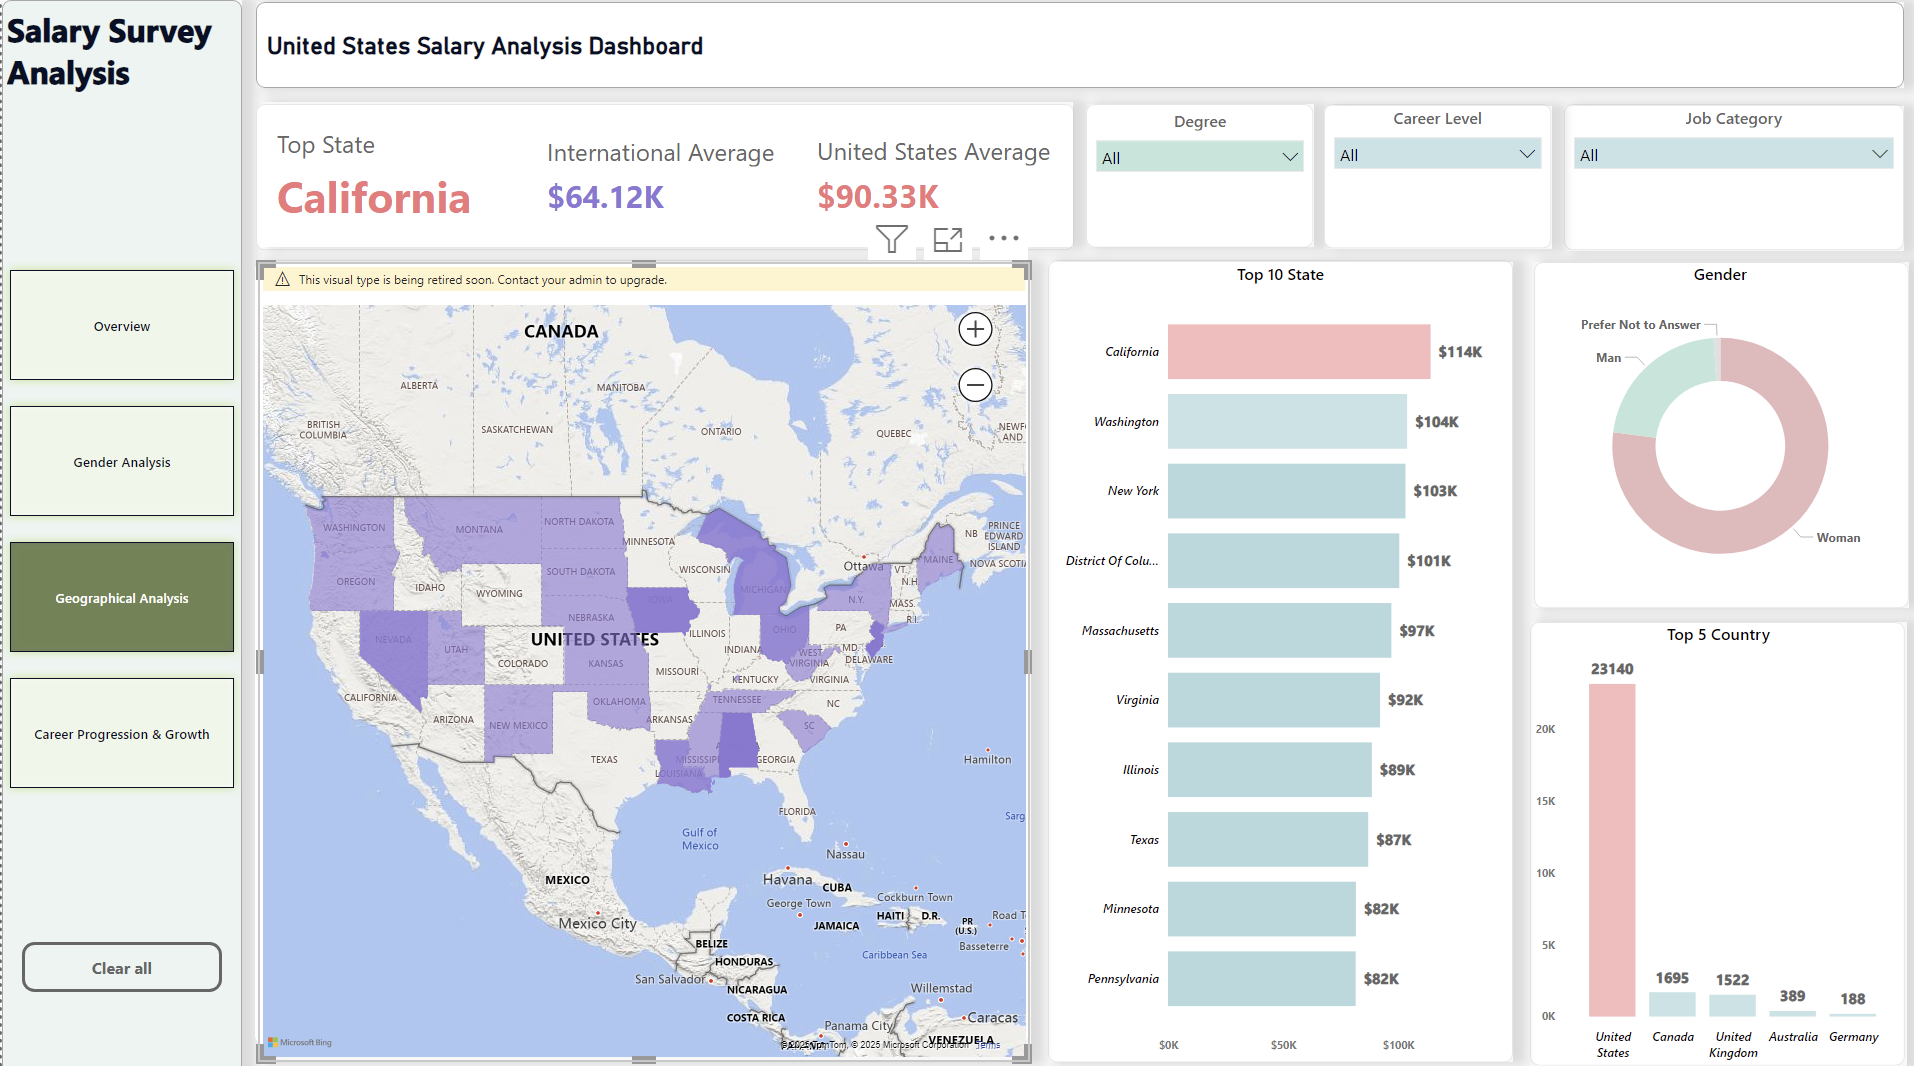

What the dashboard file says about the page in this screenshot:
{"tool":"powerbi","page":{"name":"Geographical Analysis","canvas":[1920,1080],"ordinal":2},"visuals":[{"type":"shape","box":[0,0,240,1080],"z":0},{"type":"shape","box":[1531.8,262,374.8,346.1],"z":1000},{"type":"shape","box":[1528,621.5,374.8,443.7],"z":2000},{"type":"shape","box":[253.6,103.6,818.2,146.4],"z":3000},{"type":"shape","box":[252.5,260,775,785],"z":4000},{"type":"shape","box":[254,2,1648,86],"z":5000},{"type":"textbox","box":[260,25,457.5,62.5],"z":6000},{"type":"cardVisual","fields":{"Data":["project_cleaned_v2 0.Top State","project_cleaned_v2 0.International Average","project_cleaned_v2 0.United States Average"]},"box":[257.5,102.5,812.5,145],"z":7000},{"type":"filledMap","title":"Gender Wise Average Salary","fields":{"Category":["project_cleaned_v2 0.state"]},"box":[255,262.5,772.5,800],"z":8000},{"type":"shape","box":[1045,260,465,802.5],"z":9000},{"type":"clusteredBarChart","title":"Top 10 State","fields":{"Y":["Avg(project_cleaned_v2 0.annual_salary_usd)"],"Category":["project_cleaned_v2 0.state"]},"box":[1045,262.5,465,800],"z":10000},{"type":"shape","box":[1084.5,103.6,227.3,143.6],"z":11000},{"type":"slicer","title":"Degree","fields":{"Values":["project_cleaned_v2 0.degree"]},"box":[1084.5,104.5,228.2,142.7],"z":12000},{"type":"shape","box":[1562.7,103.6,340,146.4],"z":13000},{"type":"shape","box":[1322.7,103.6,227.3,144.5],"z":14000},{"type":"slicer","title":"Job Category","fields":{"Values":["project_cleaned_v2 0.job_category"]},"box":[1562.7,105.5,340,144.5],"z":15000},{"type":"slicer","title":"Career Level","fields":{"Values":["project_cleaned_v2 0.career_level"]},"box":[1322.7,105.5,227.3,142.7],"z":16000},{"type":"clusteredColumnChart","title":"Top 5 Country","fields":{"Category":["project_cleaned_v2 0.country"],"Y":["CountNonNull(project_cleaned_v2 0.annual_salary_usd)"]},"box":[1528,621.5,376.7,445.6],"z":17000},{"type":"donutChart","title":"Gender","fields":{"Y":["CountNonNull(project_cleaned_v2 0.annual_salary_usd)"],"Category":["project_cleaned_v2 0.gender"]},"box":[1529.9,262,376.7,346.1],"z":18000},{"type":"pageNavigator","box":[0,262.5,240,537.5],"z":19000},{"type":"textbox","box":[0,2.5,240,132.5],"z":20000},{"type":"actionButton","box":[20,942.5,200,50],"z":21000}]}

Visuals, with their boxes on the page's 1920x1080 design canvas (x1, y1, x2, y2). These are canvas units, not pixel positions in the 1914x1066 screenshot, which may show the page scaled, cropped or inside an application window:
shape: <region>0, 0, 240, 1080</region>
shape: <region>1532, 262, 1907, 608</region>
shape: <region>1528, 622, 1903, 1065</region>
shape: <region>254, 104, 1072, 250</region>
shape: <region>252, 260, 1028, 1045</region>
shape: <region>254, 2, 1902, 88</region>
textbox: <region>260, 25, 718, 88</region>
cardVisual - project_cleaned_v2 0.Top State x project_cleaned_v2 0.International Average: <region>258, 102, 1070, 248</region>
"Gender Wise Average Salary" filledMap: <region>255, 262, 1028, 1062</region>
shape: <region>1045, 260, 1510, 1062</region>
"Top 10 State" clusteredBarChart: <region>1045, 262, 1510, 1062</region>
shape: <region>1084, 104, 1312, 247</region>
"Degree" slicer: <region>1084, 104, 1313, 247</region>
shape: <region>1563, 104, 1903, 250</region>
shape: <region>1323, 104, 1550, 248</region>
"Job Category" slicer: <region>1563, 106, 1903, 250</region>
"Career Level" slicer: <region>1323, 106, 1550, 248</region>
"Top 5 Country" clusteredColumnChart: <region>1528, 622, 1905, 1067</region>
"Gender" donutChart: <region>1530, 262, 1907, 608</region>
pageNavigator: <region>0, 262, 240, 800</region>
textbox: <region>0, 2, 240, 135</region>
actionButton: <region>20, 942, 220, 992</region>
